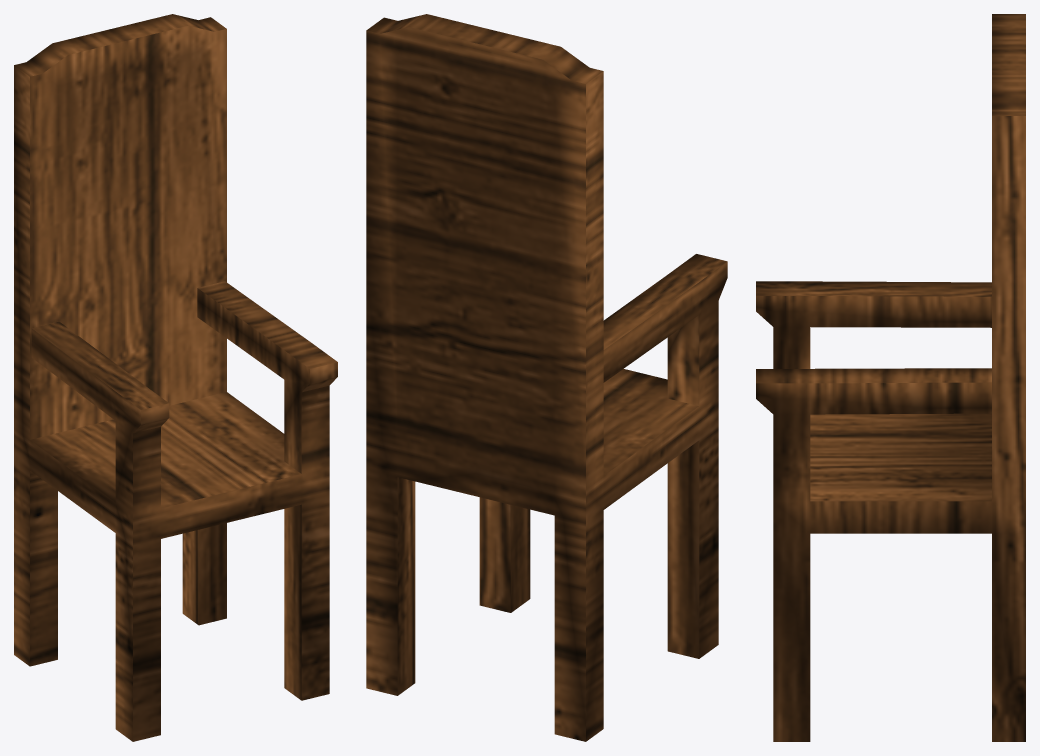
Rendered from Chair_1.gltf.
The picture shows the model from 3 angles, left to right: view 1: azimuth 30°, elevation 25°; view 2: azimuth 150°, elevation 25°; view 3: azimuth 270°, elevation 25°; orthographic projection. The views are drawn at different scales.
Visible parts, largest first — view 1: Chair_1.001; view 2: Chair_1.001; view 3: Chair_1.001.
Boxes of the visible parts, x1,y1,x2,y2 form: Chair_1.001: [14, 14, 337, 741]; Chair_1.001: [366, 14, 727, 741]; Chair_1.001: [756, 14, 1025, 741].
Bounding box in the file's own units: 2 × 5.85 × 2.24.
Materials: 1 (1 with a texture image).
